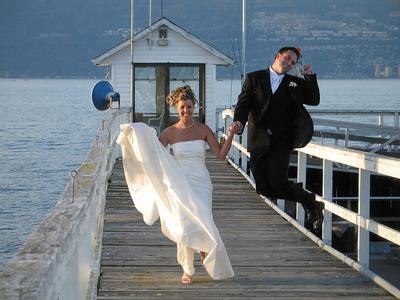person: (229, 48, 327, 230)
